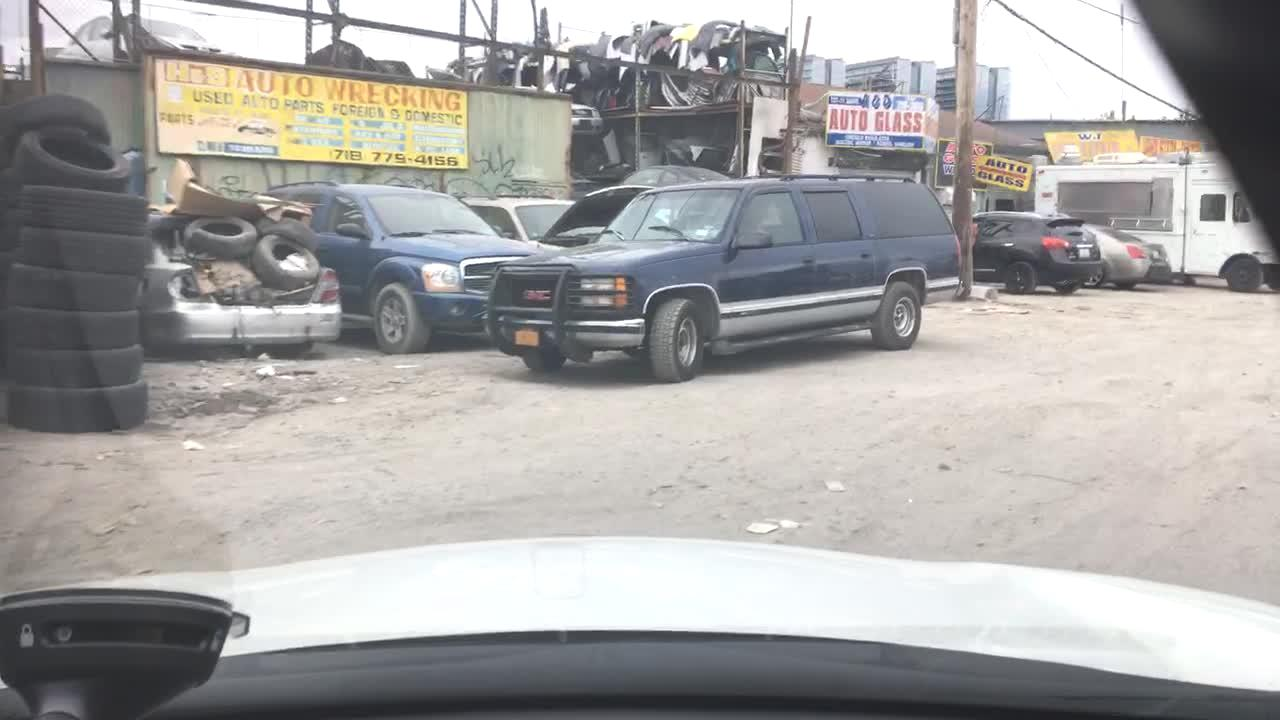GMC: (514, 284, 561, 308)
